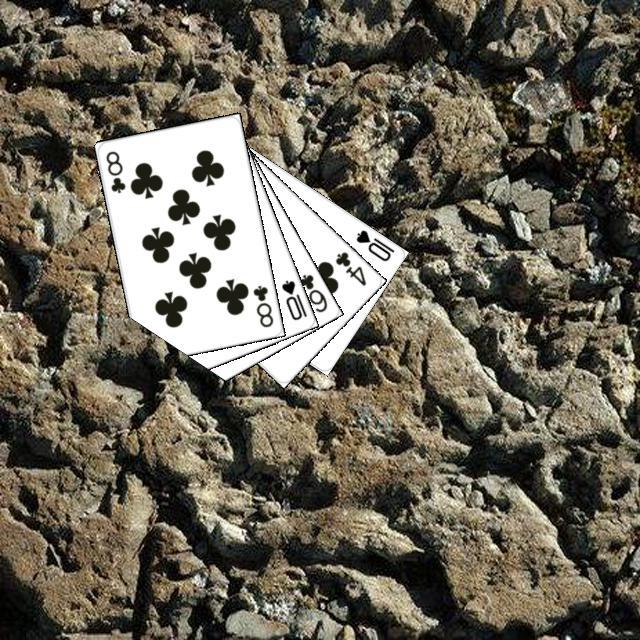10s: (351, 225, 396, 263), (276, 275, 309, 322)
4c: (330, 247, 368, 288)
6c: (294, 269, 329, 314)
8c: (248, 280, 275, 329), (101, 146, 127, 195)
